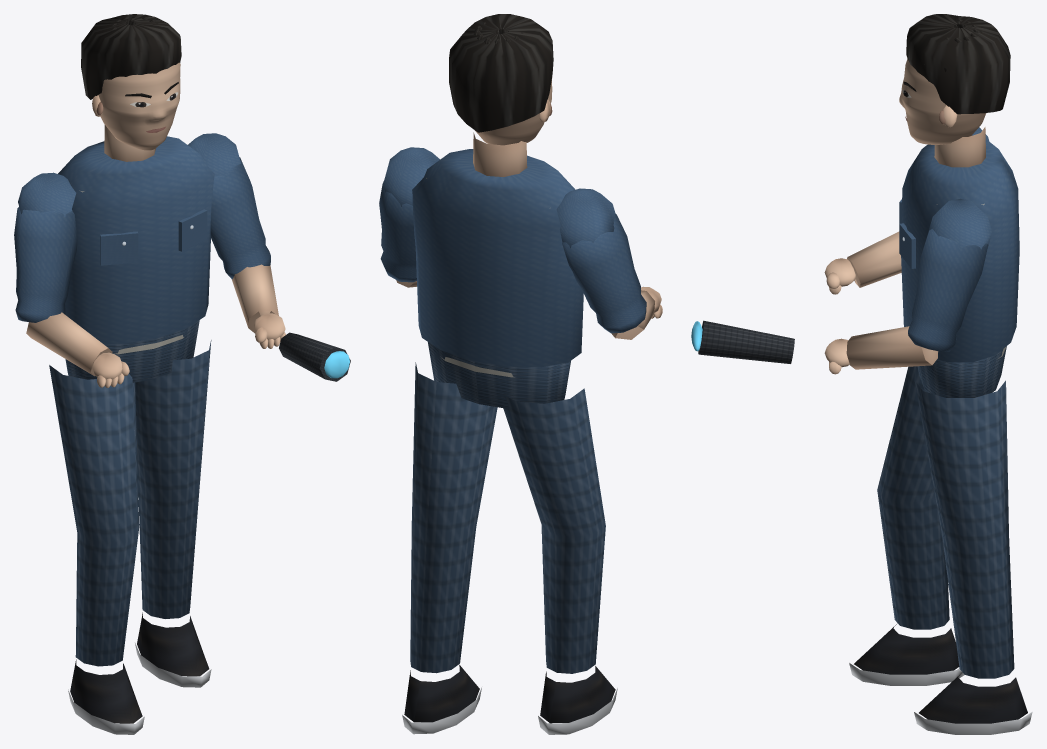
File: HERO-03_kolya-lamp.glb
3 renders of one model, left to right at view 1: azimuth 30°, elevation 25°; view 2: azimuth 150°, elevation 25°; view 3: azimuth 270°, elevation 25°, orthographic. The views are drawn at different scales.
Visible parts, largest first — view 1: kolya · soles; view 2: kolya · soles; view 3: kolya · soles.
Part boxes in pixels (x1,y1,x2,y2): kolya · soles: [14, 14, 350, 734]; kolya · soles: [379, 14, 662, 734]; kolya · soles: [691, 14, 1032, 734].
Bounding box in the file's own units: 0.6617 × 1.68 × 0.7714.
2 materials, 2 textured.
